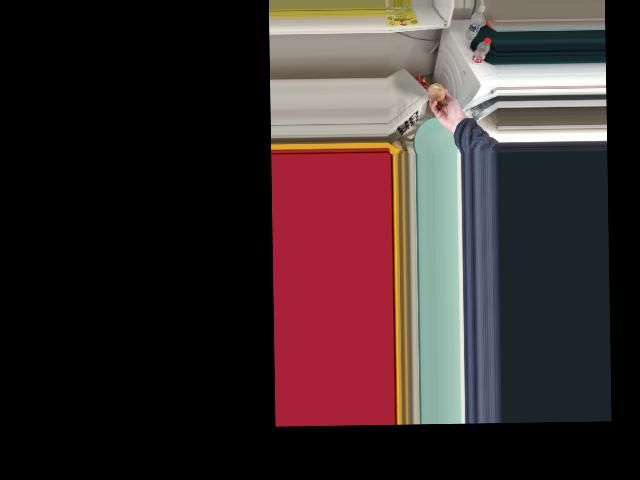sweet_potato: (429, 83, 445, 103)
